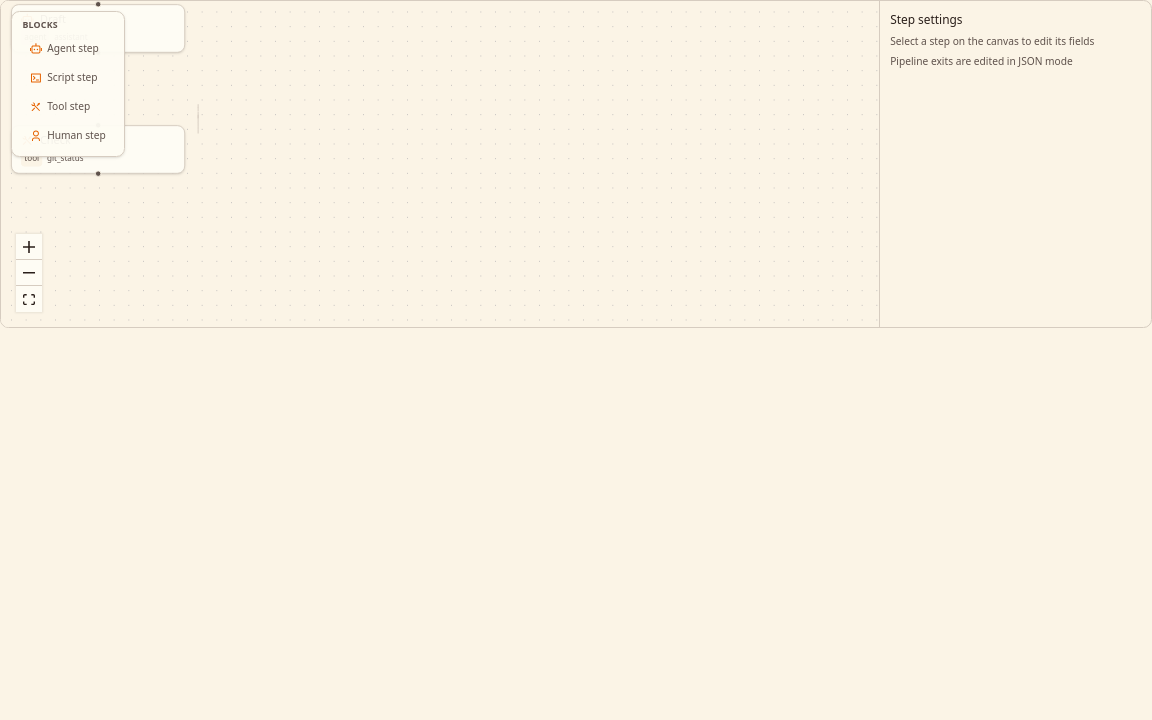
Test: PipelineEditor — палитра: добавление шага › шаг вида «script» появляется на канвасе и попадает в спецификацию
What coordinates should you click on to do the following:
click the button "Script step"
I would click on:
 (68, 78)
Its box is 19,65 -> 117,91.
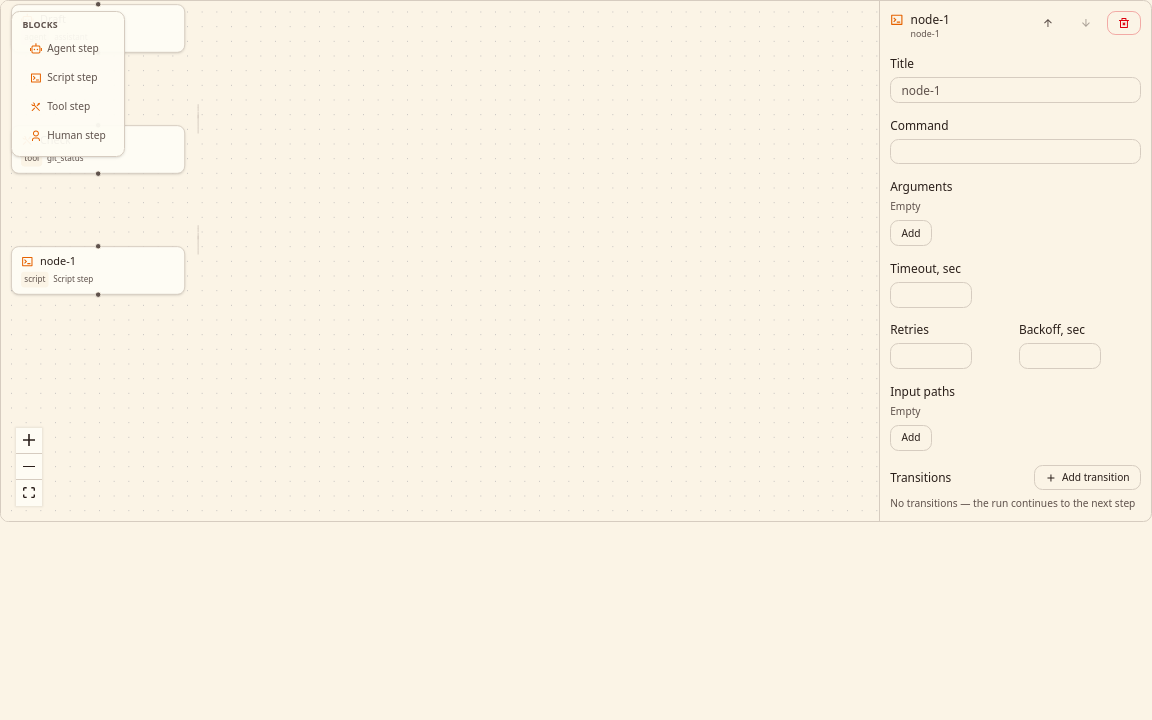
Expected: the element showing "node-1 script Script step" is shown, 11,246 -> 186,294
Expected: the text "script" is shown, 21,272 -> 49,287
